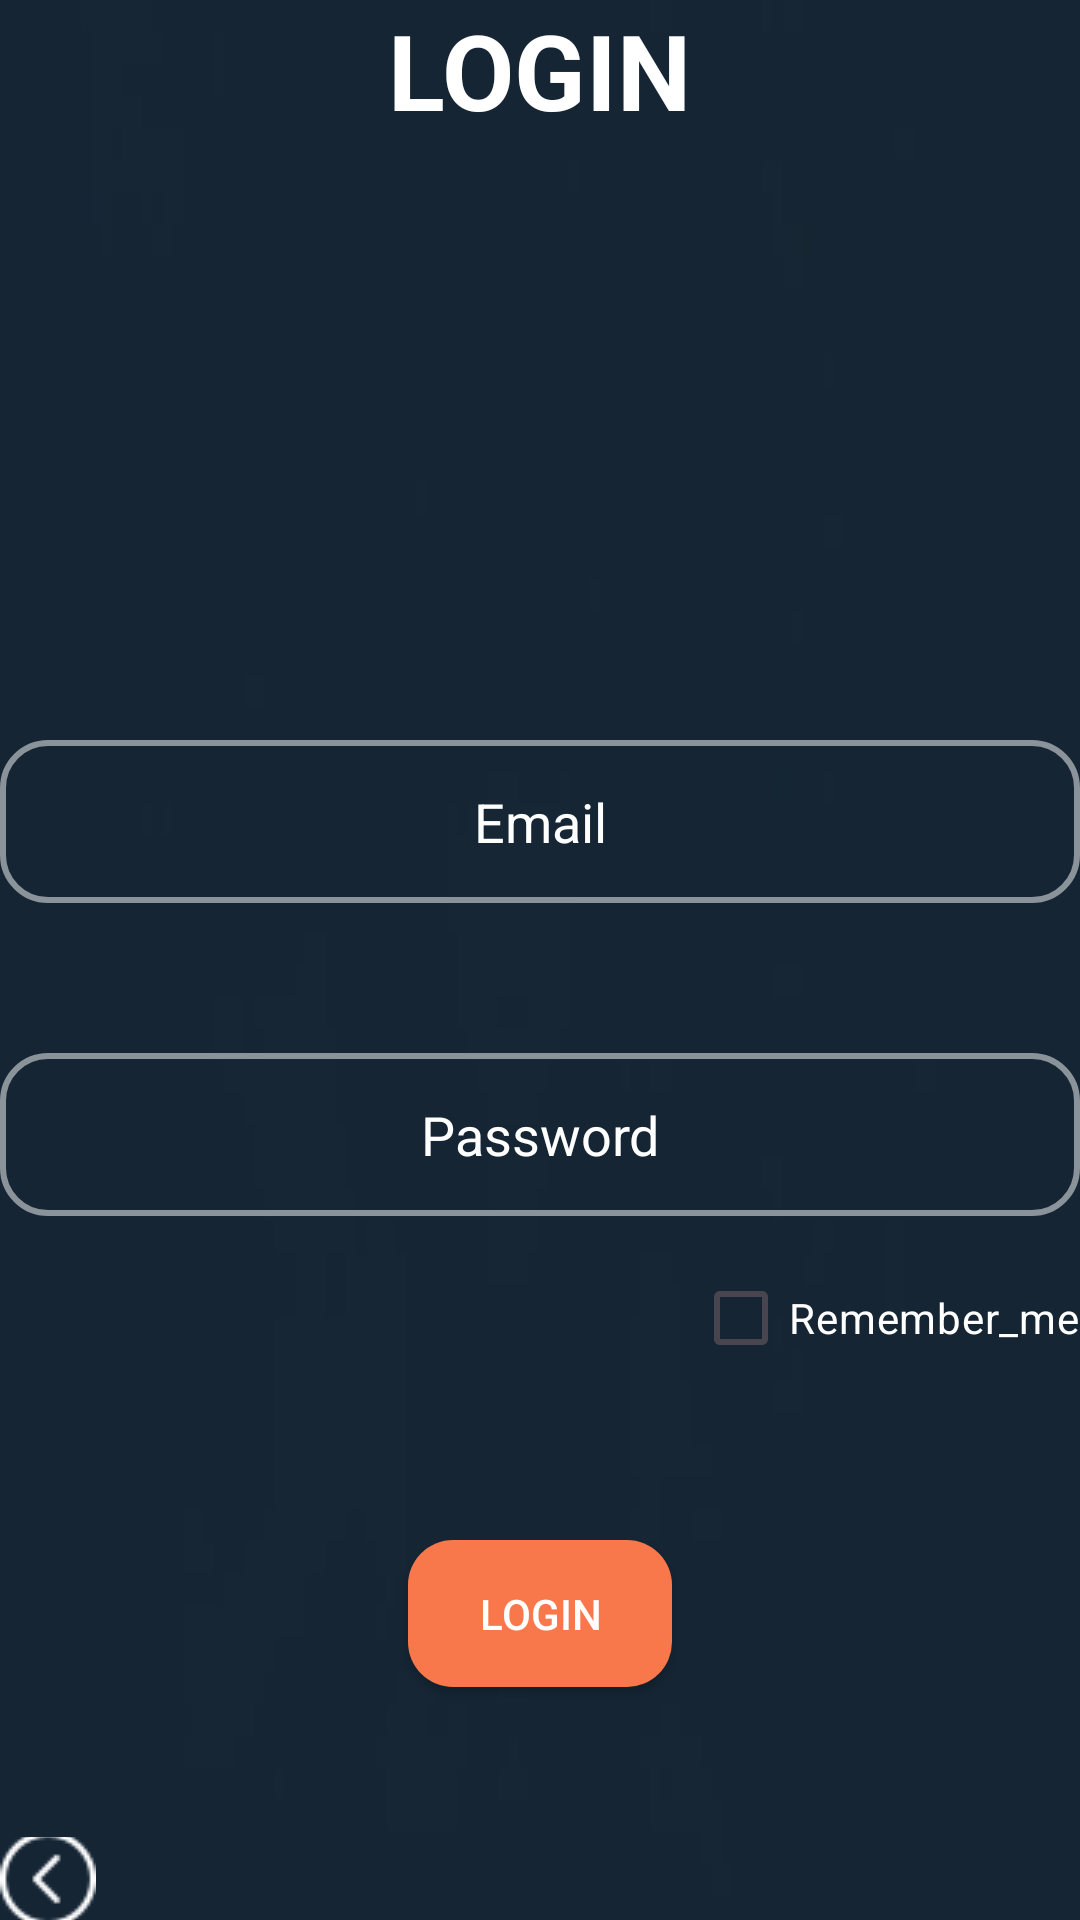

Point at icon controls on the screen. Image size 1080×1920, points as [x,y].
back: [48,1878]
